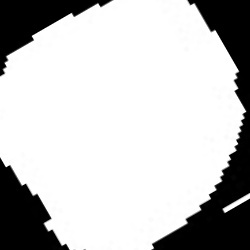spot: (1, 2, 248, 249)
